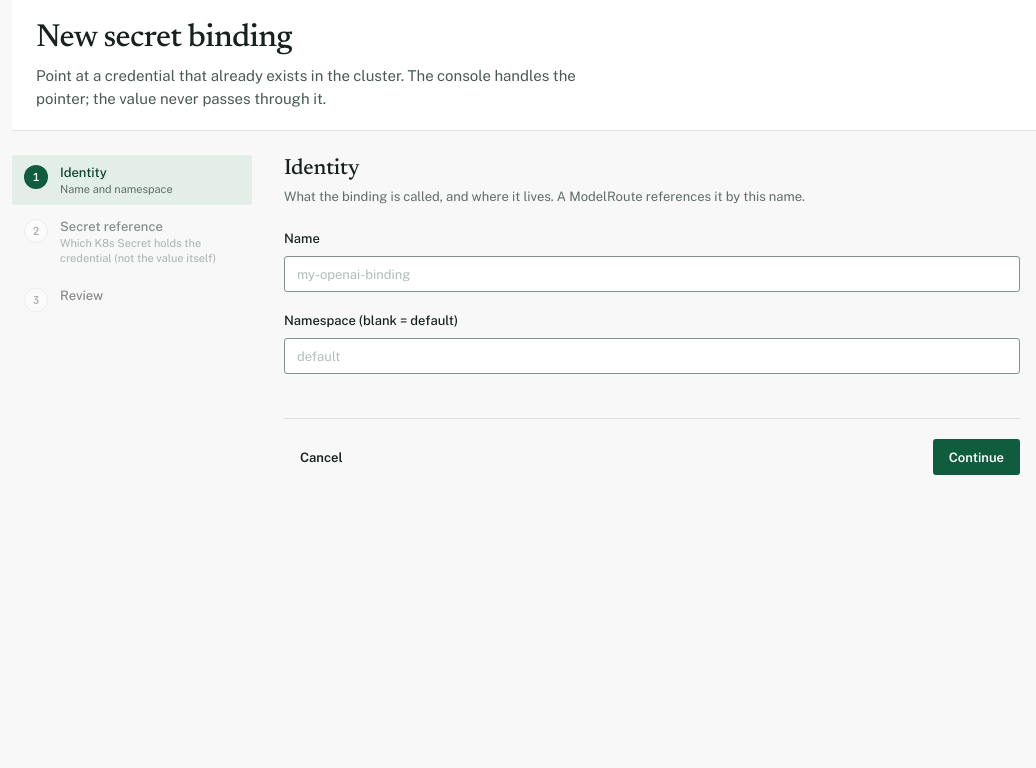
SecretBinding — NO VALUE field in UI (security invariant) › create wizard shows secretRef fields but no value input
Note: Navigate to the ref step (wizard Next button is labeled "Continue")
Type "my-binding" into the field with test id "new-sb-name" at {"x": 652, "y": 274}, box [284,256,1020,292]
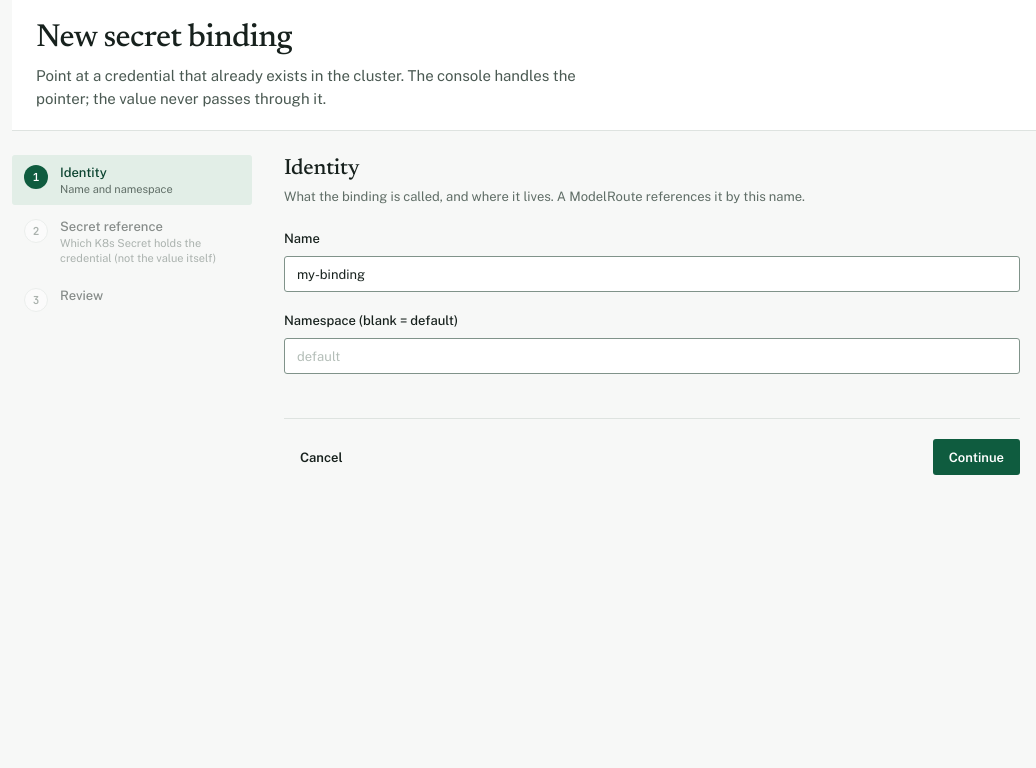
Click the button "Continue" at {"x": 976, "y": 457}, box [933,439,1020,475]
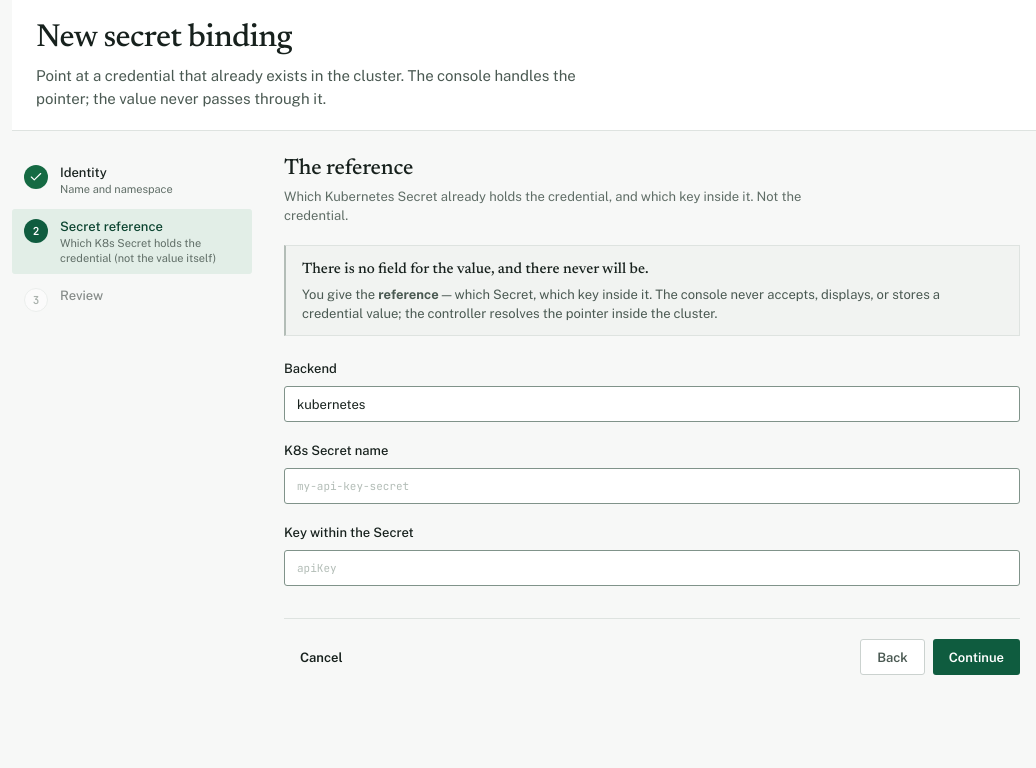
Now the element with test id "no-value-create-note" is shown, box [284,245,1020,336]
Now the field with test id "new-sb-secret-name" is shown, box [284,468,1020,504]
Now the field with test id "new-sb-secret-key" is shown, box [284,550,1020,586]
